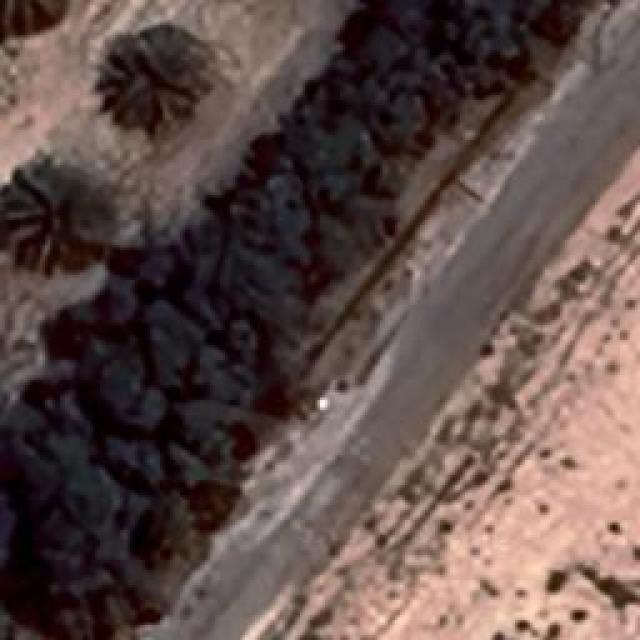PalmTree: (92, 28, 200, 130), (7, 171, 102, 274), (0, 0, 68, 37)
